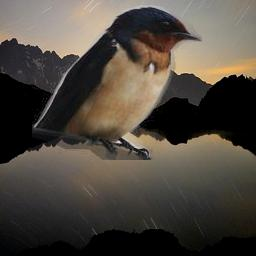Swallow: (32, 5, 202, 160)
